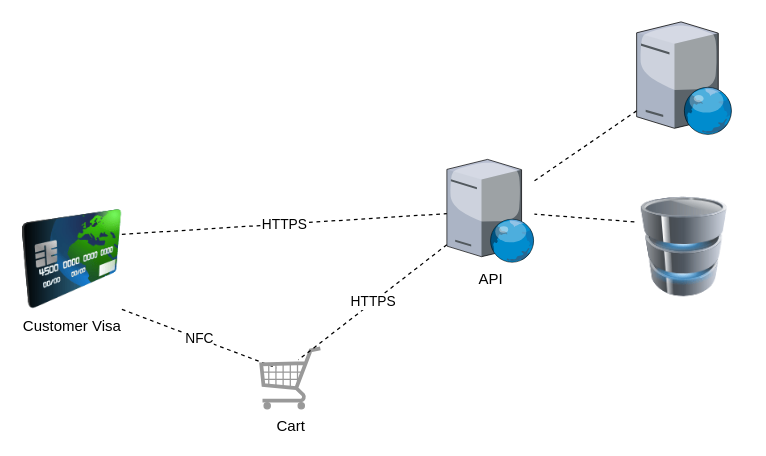
Some shapes in this 766 by 456 pixel diagram are drawn without their labels. The centre of each missing label's shape, as x and y in pixels:
"Product DataBase" belongs at [684,246].
"VISA API" belongs at [684,77].
